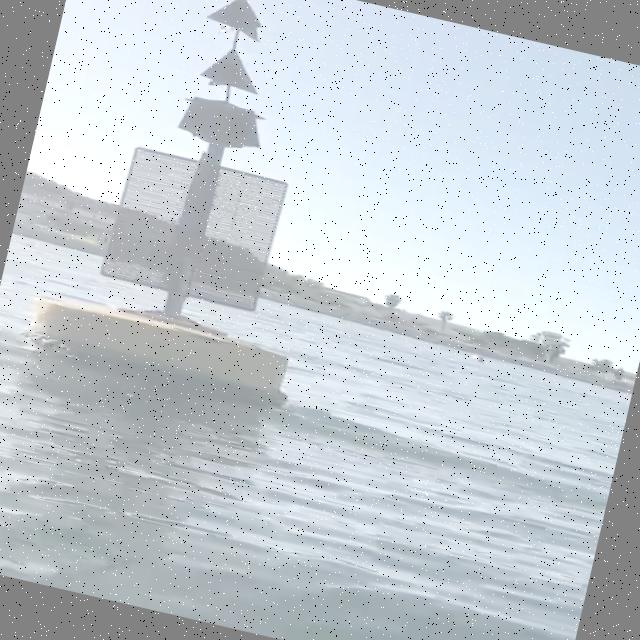marque: (1, 1, 386, 422)
